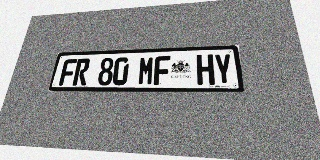0: (112, 57, 129, 85)
8: (97, 58, 115, 85)
F: (59, 59, 77, 86), (154, 56, 170, 85)
H: (196, 54, 215, 85)
M: (137, 56, 155, 85)
R: (72, 58, 91, 86)
Y: (213, 54, 234, 85)
